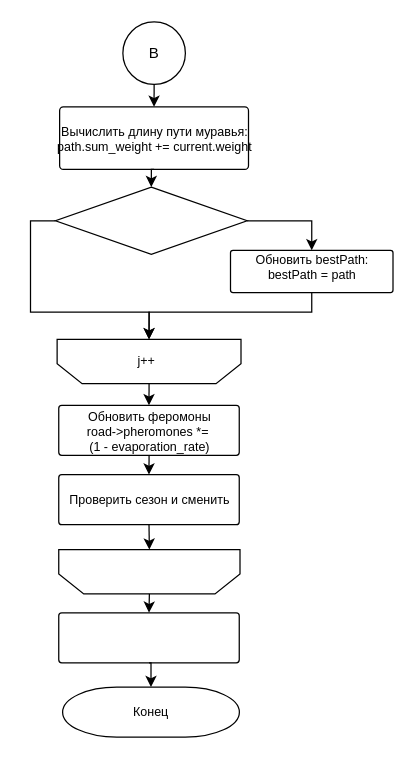
Some shapes in this 415 by 760 pixel diagram are drawn without their labels. The box of each missing label's shape, as (x1, y1, x2, y2) in pixels:
i++: (58, 548, 240, 594)
path.sum_weight < maxPath.sum_weight: (54, 186, 247, 254)
Вернуть bestPaath: (58, 612, 239, 663)
